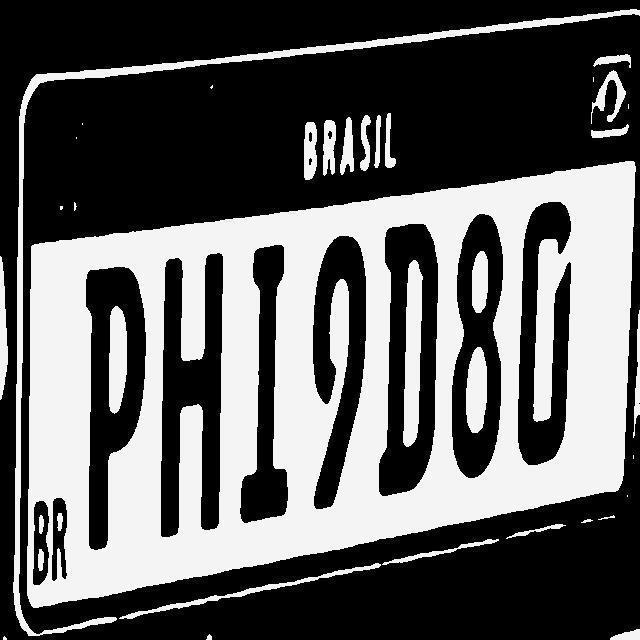0: (513, 184, 578, 466)
8: (439, 195, 508, 474)
9: (304, 225, 366, 508)
d: (370, 211, 440, 493)
h: (161, 242, 230, 540)
i: (234, 228, 290, 522)
p: (83, 259, 146, 557)
